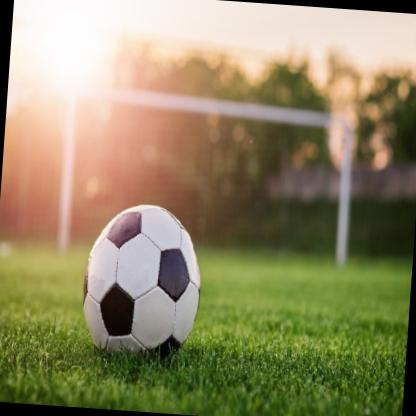ball: (77, 200, 206, 366)
